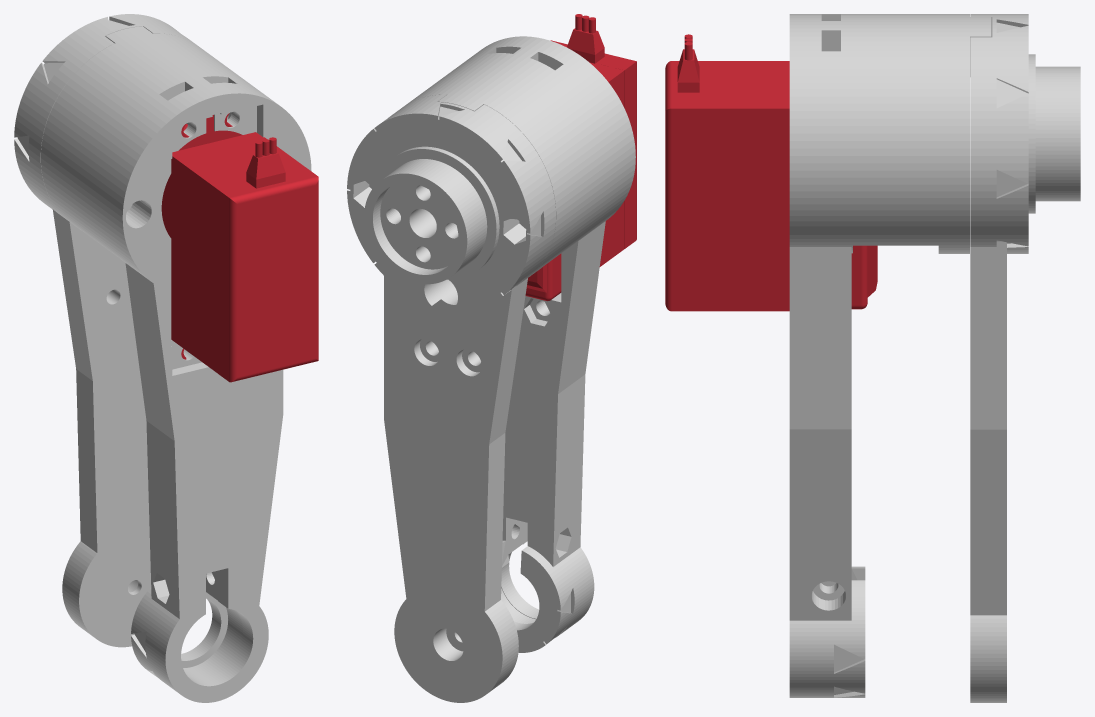
3 renders of one model, left to right at view 1: azimuth 30°, elevation 25°; view 2: azimuth 150°, elevation 25°; view 3: azimuth 270°, elevation 25°, orthographic. The views are drawn at different scales.
Visible parts, largest first — view 1: FEEEEMUR_004; view 2: FEEEEMUR_004; view 3: FEEEEMUR_004.
Boxes of the visible parts, x1,y1,x2,y2 form: FEEEEMUR_004: (14,14,318,702); FEEEEMUR_004: (347,14,636,702); FEEEEMUR_004: (665,14,1080,702).
Size of the model in its own units: 0.0436 by 0.0755 by 0.1347.
